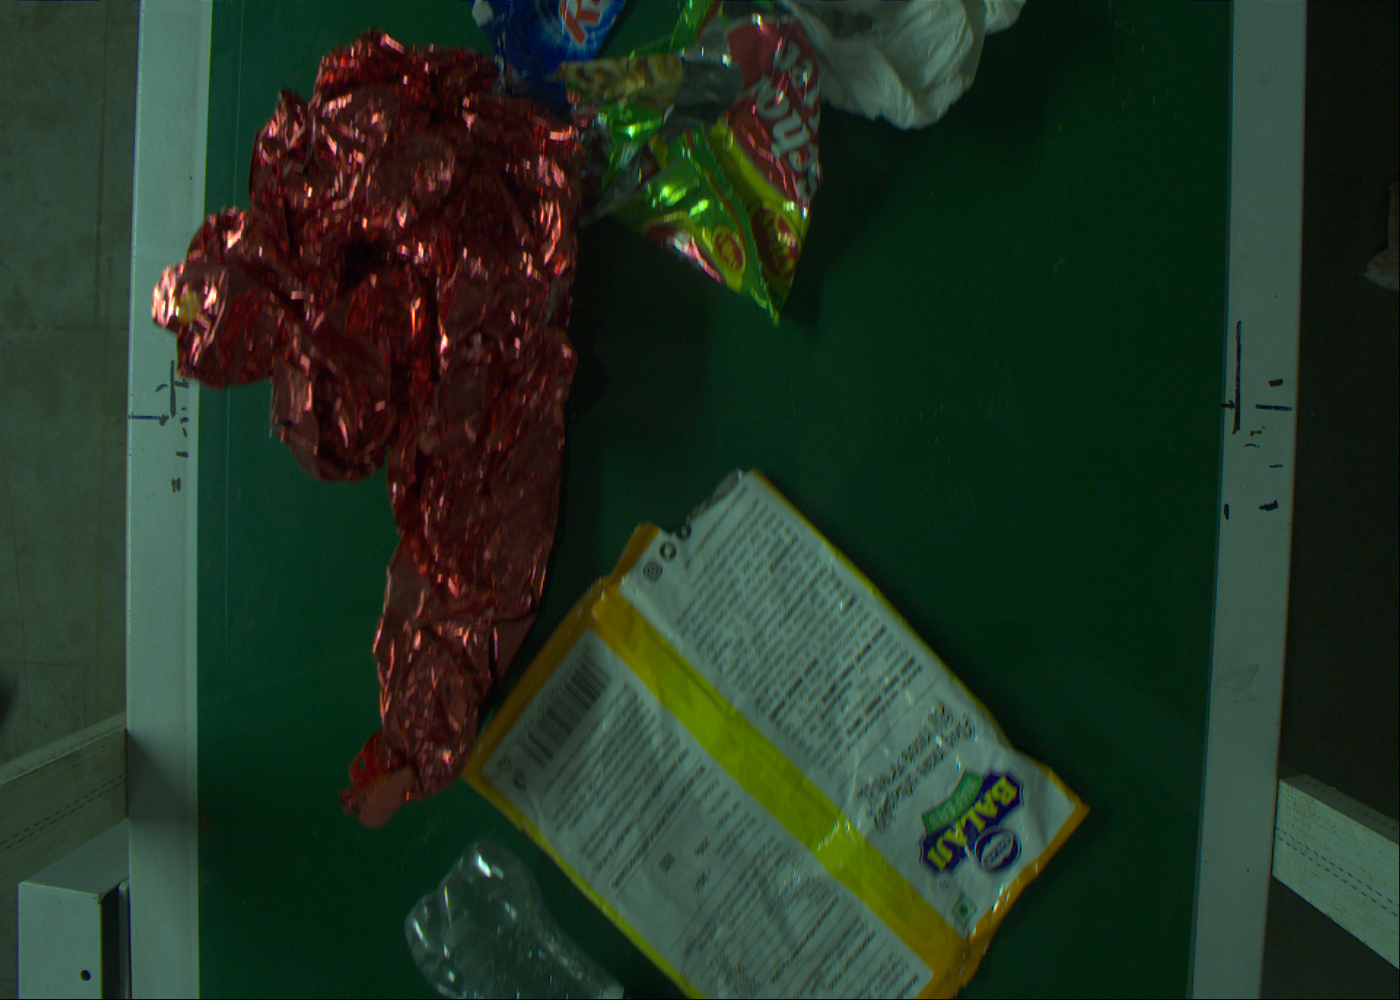multilayer_plastic: (471, 495, 1098, 992), (552, 1, 853, 324)
pp_w: (166, 39, 573, 823)
